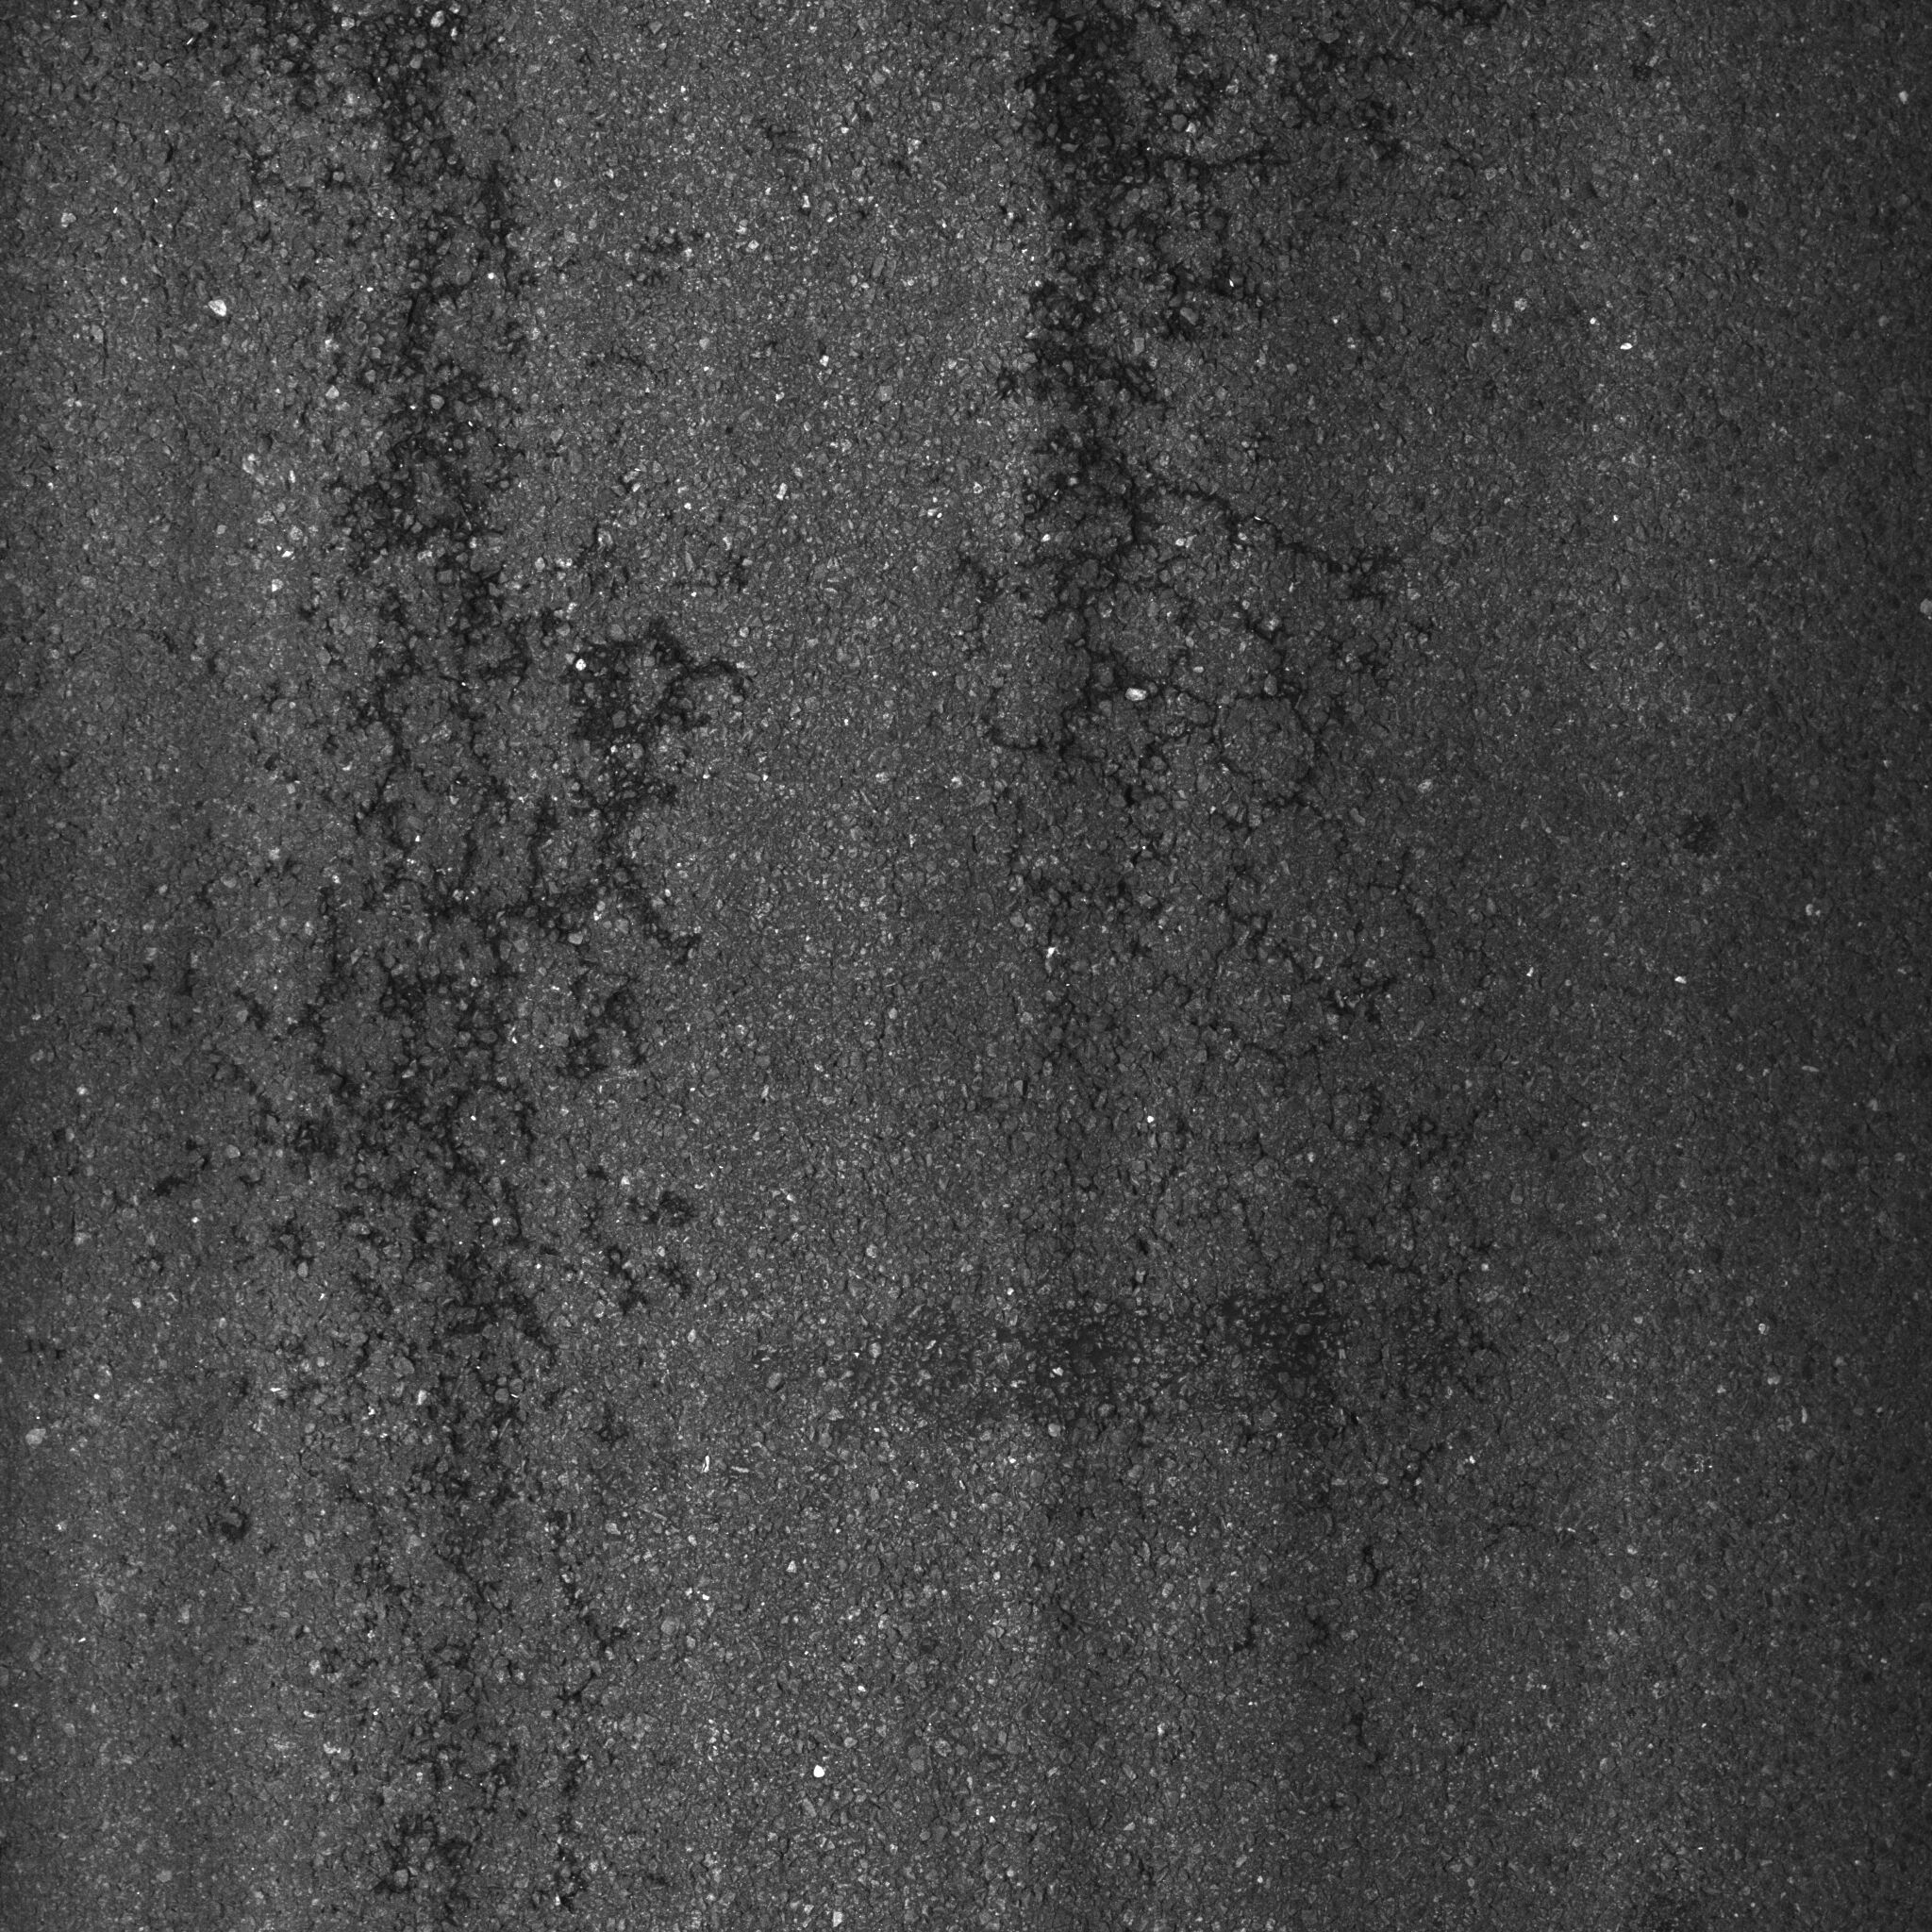alligator: (168, 5, 755, 1927), (959, 12, 1511, 1644)
